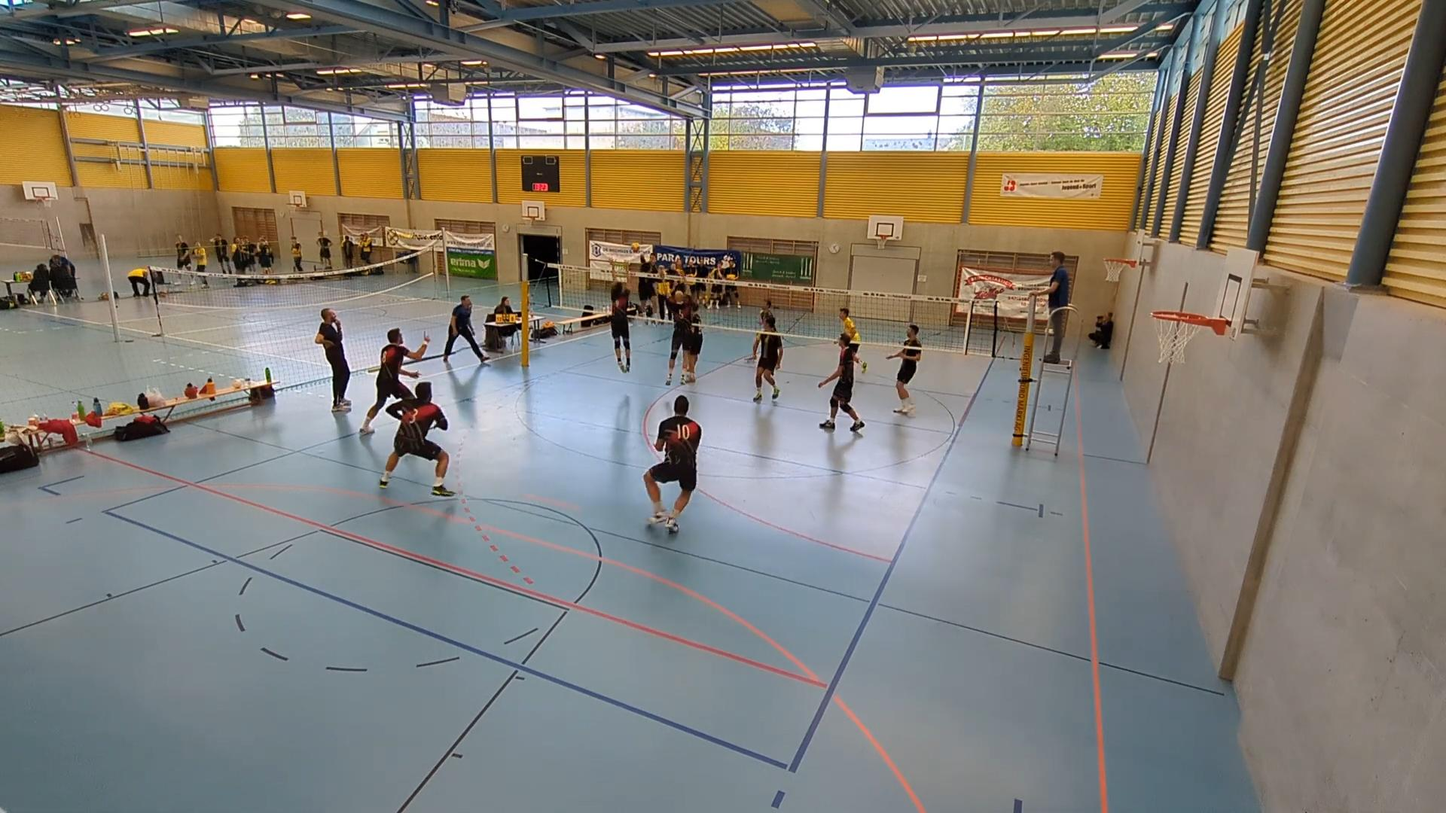Block: (607, 253, 639, 371), (661, 268, 693, 381)
Player: (380, 382, 454, 496), (643, 395, 701, 532), (360, 328, 429, 434), (818, 333, 864, 431), (888, 324, 921, 416), (750, 315, 782, 402), (839, 307, 866, 373), (682, 307, 703, 382), (759, 299, 773, 327)
ball: (723, 273, 739, 281)
